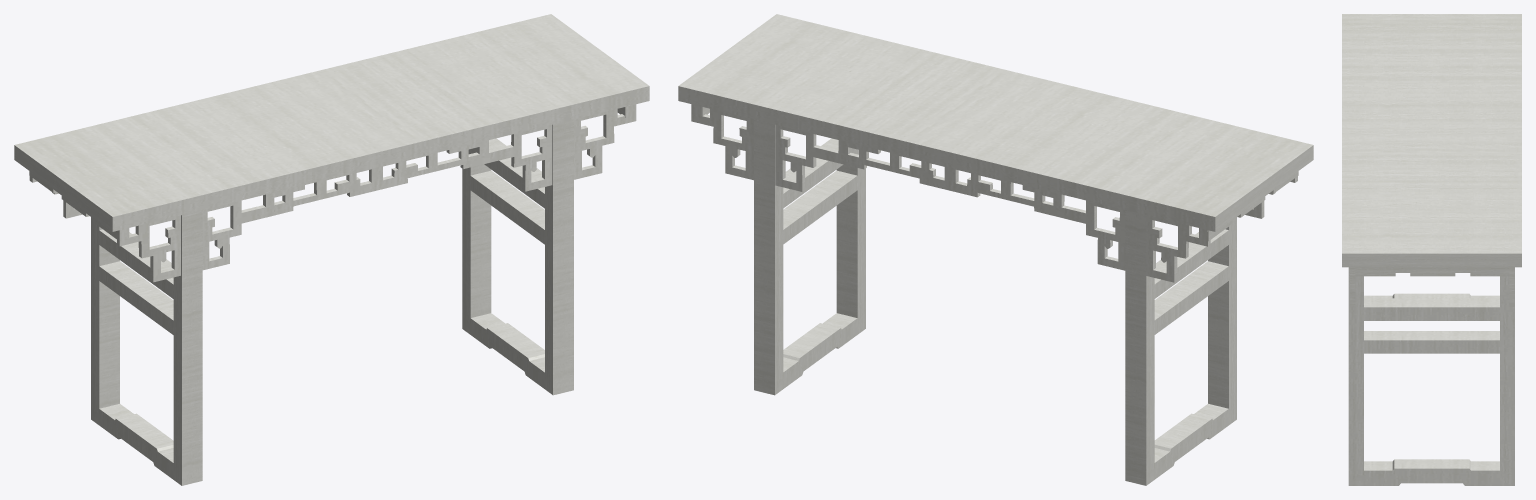
File: Table 2.FBX
3 renders of one model, left to right at view 1: azimuth 30°, elevation 25°; view 2: azimuth 150°, elevation 25°; view 3: azimuth 270°, elevation 25°, orthographic. The views are drawn at different scales.
Visible parts, largest first — view 1: table 2; view 2: table 2; view 3: table 2.
Boxes of the visible parts, x1,y1,x2,y2 form: table 2: (14, 14, 649, 485); table 2: (678, 14, 1313, 485); table 2: (1342, 14, 1521, 485).
Size of the model in its own units: 154 by 79.47 by 48.99.
